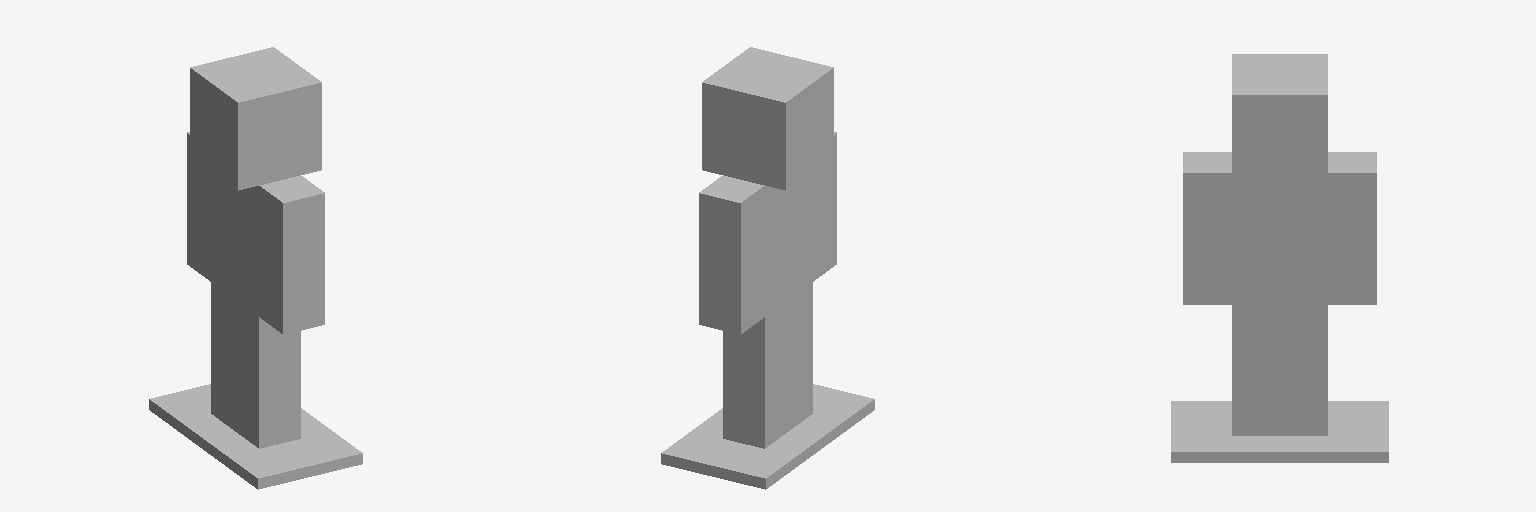
Rendered from StoneSteve.obj.
3 renders of one model, left to right at view 1: azimuth 30°, elevation 25°; view 2: azimuth 150°, elevation 25°; view 3: azimuth 270°, elevation 25°, orthographic.
Parts seen in each view (by area): view 1: Stone_Steve; view 2: Stone_Steve; view 3: Stone_Steve.
Boxes of the visible parts, x1,y1,x2,y2 form: Stone_Steve: [149, 47, 362, 489]; Stone_Steve: [661, 47, 874, 489]; Stone_Steve: [1171, 54, 1388, 462].
Bounding box in the file's own units: 10 × 33 × 18.